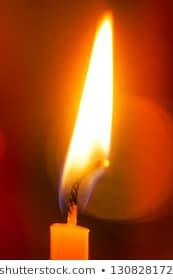fire: (64, 12, 118, 188)
